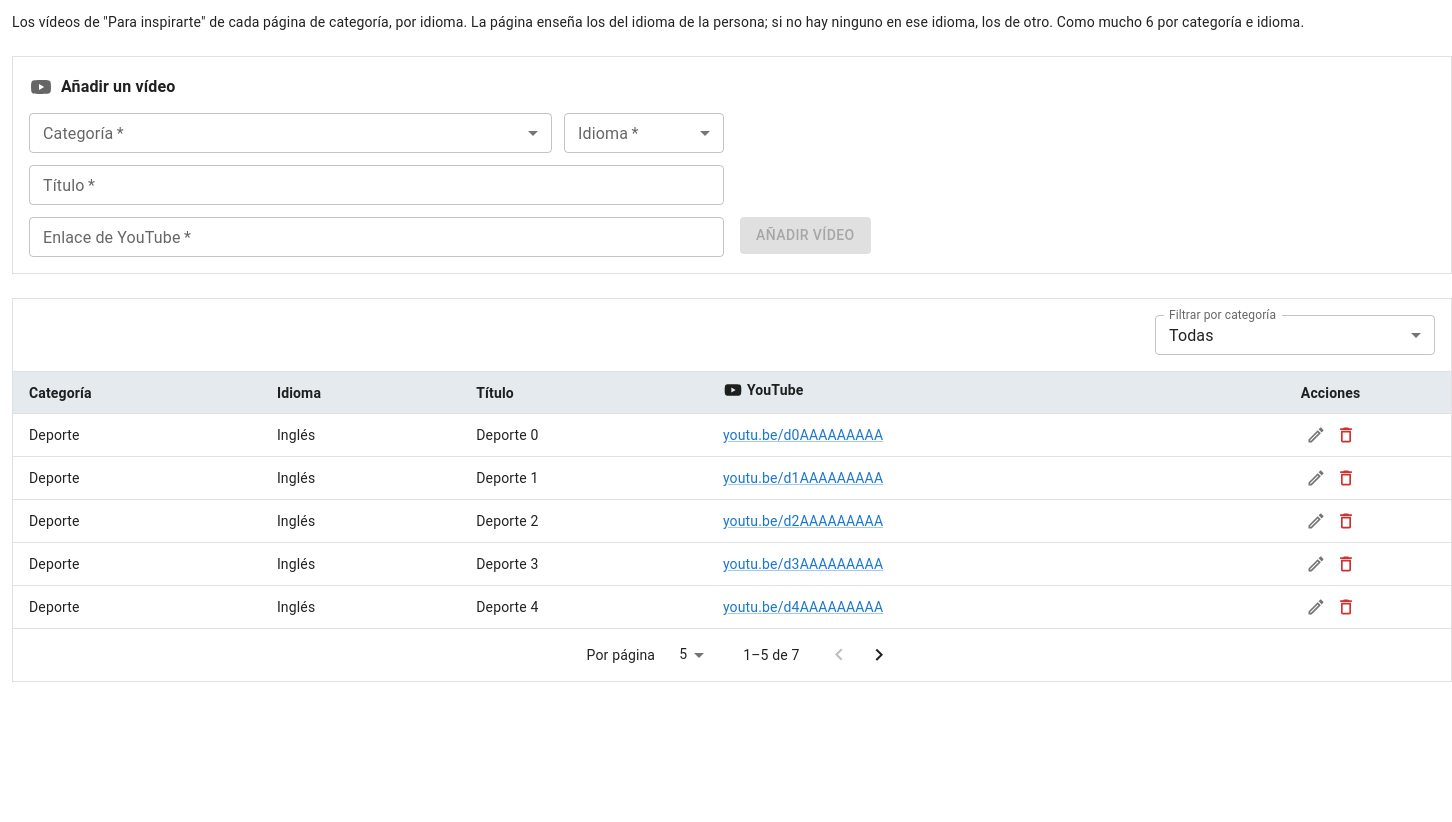
Test: AdminVideos (ADM-04) › desde la última página, al pasar a 25 por página se ven todos (fallo encontrado por el autor)
Click the button named "Go to next page". click: (879, 655)
box: [859,635,899,675]
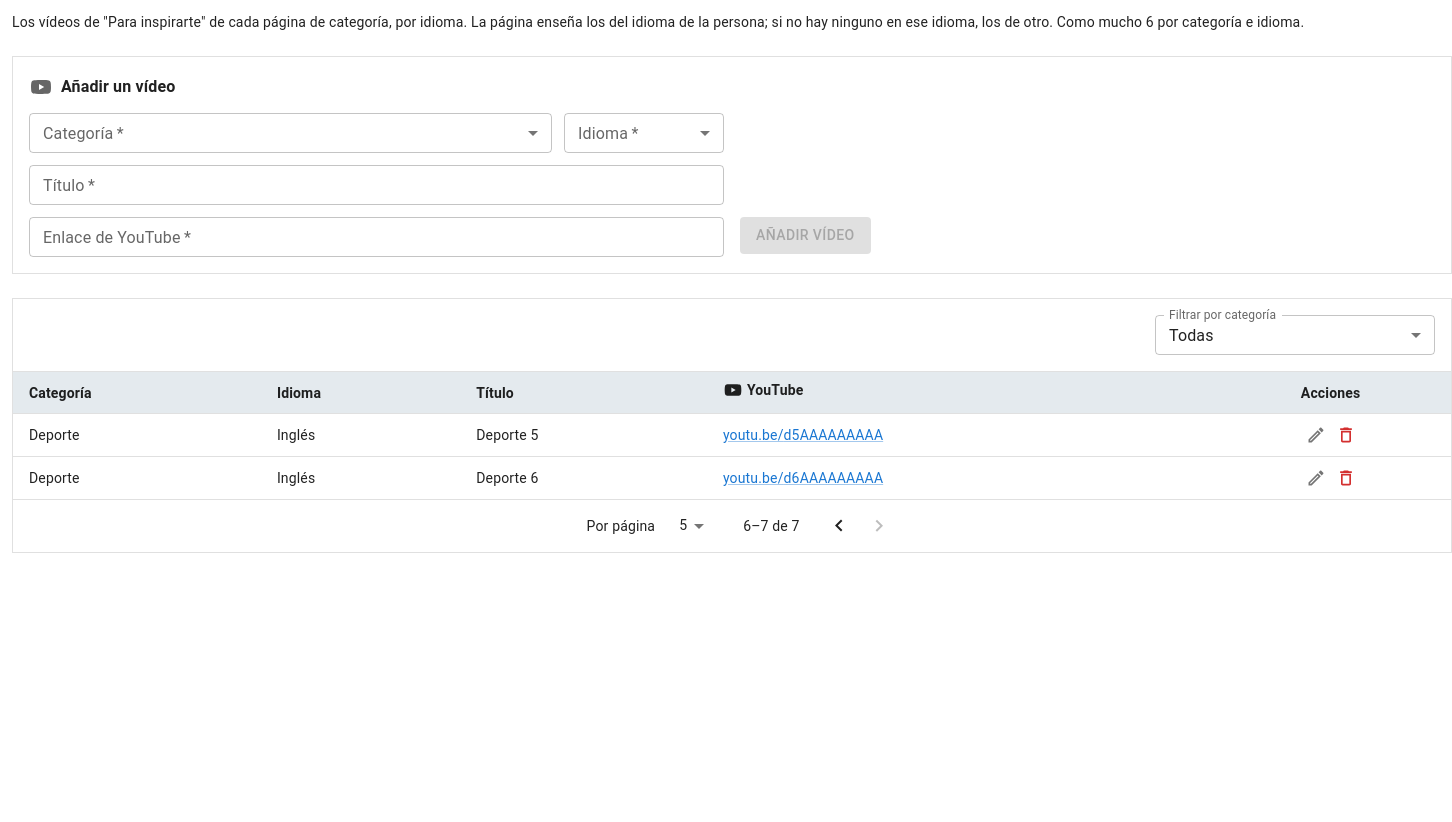
Now the number of rows is 3, box [13,372,1451,414]; [13,414,1451,456]; [13,456,1451,500]
Press the mouse on the dropdown named "por página" at (683, 526), box [679,518,687,534]
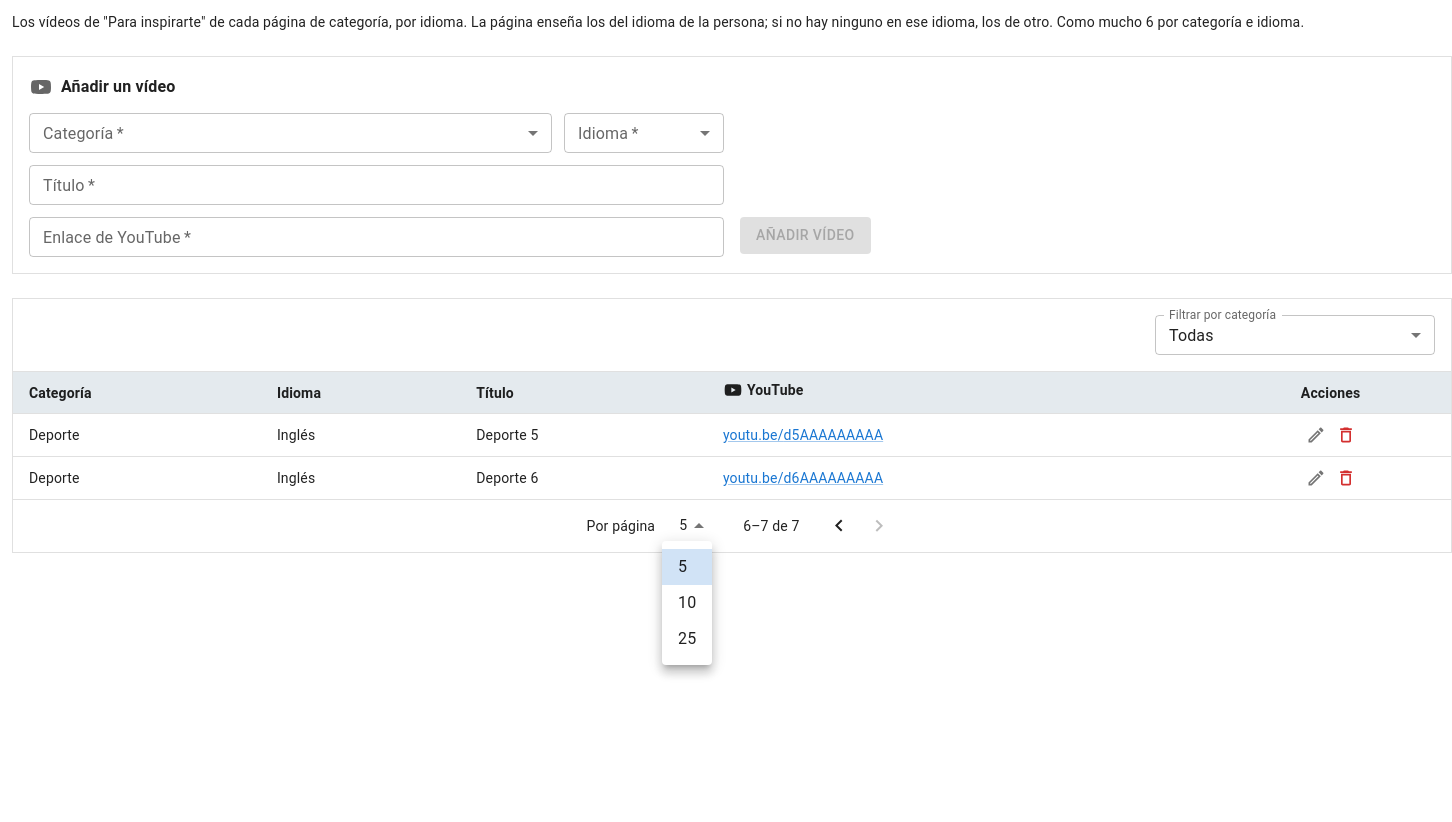
Click the option "25". click: (687, 638)
box: [678,629,696,648]
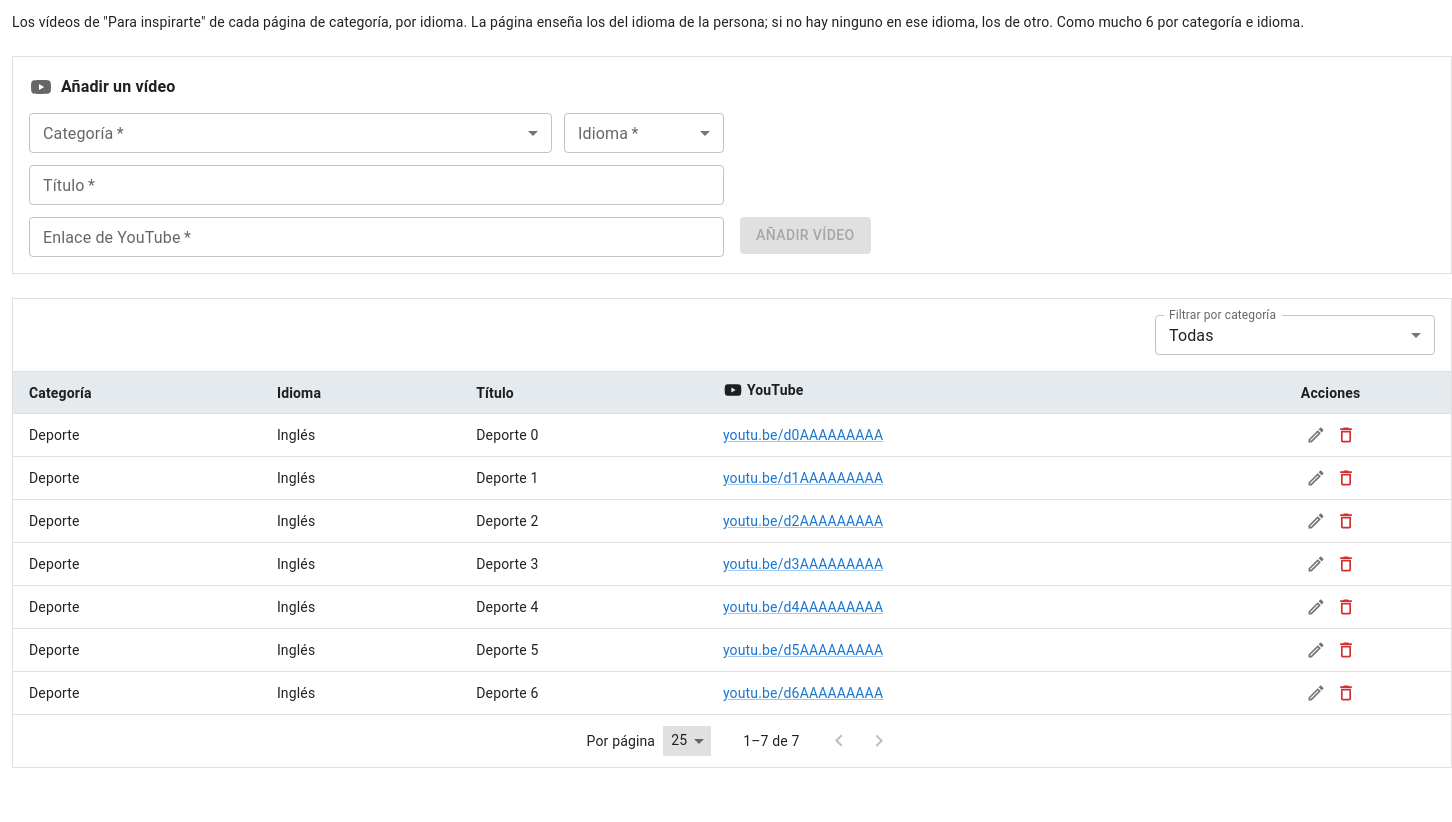
Now the number of rows is 8
